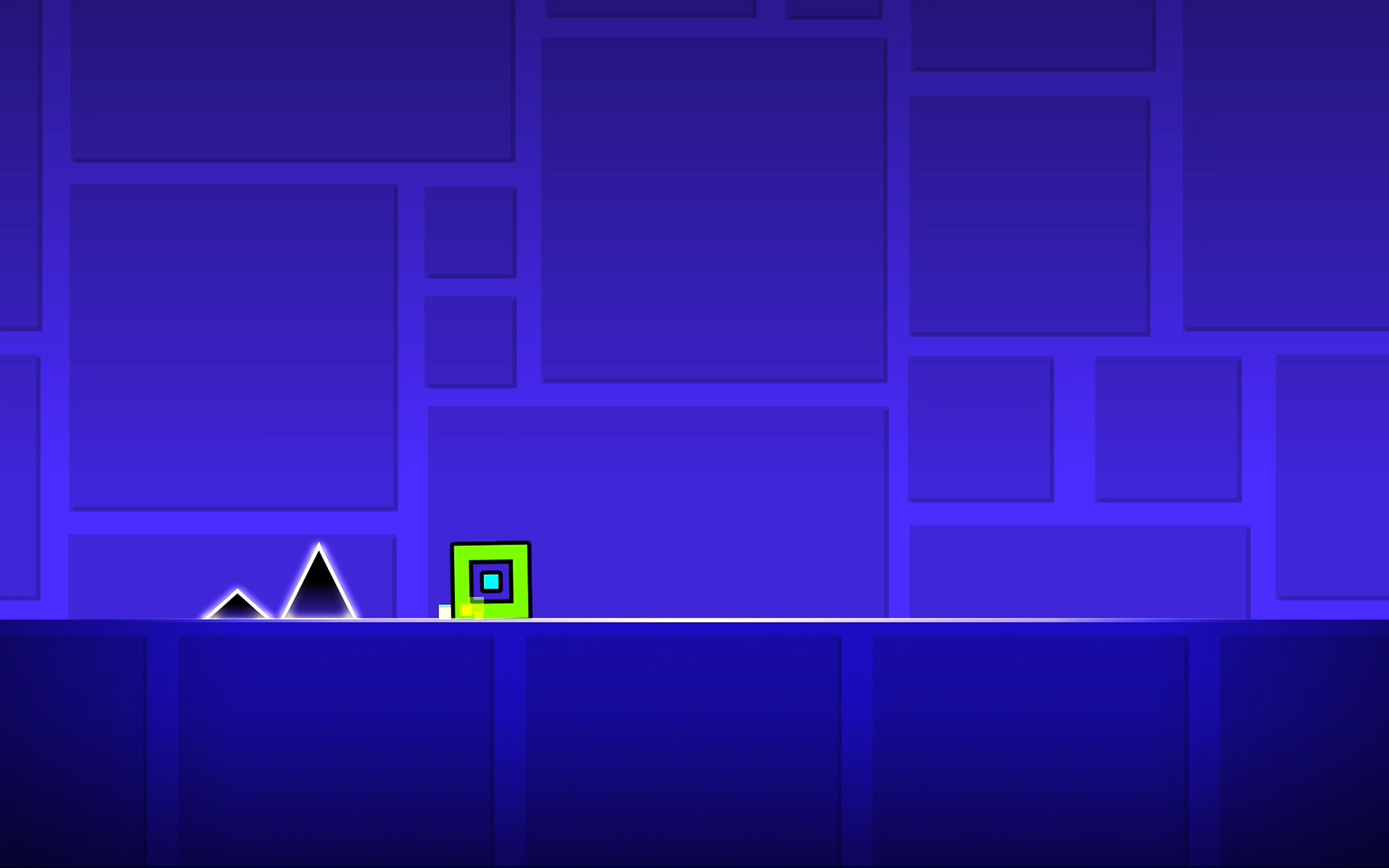Player: (450, 542, 531, 619)
Spike: (281, 545, 356, 617)
Spike2: (204, 589, 269, 619)
